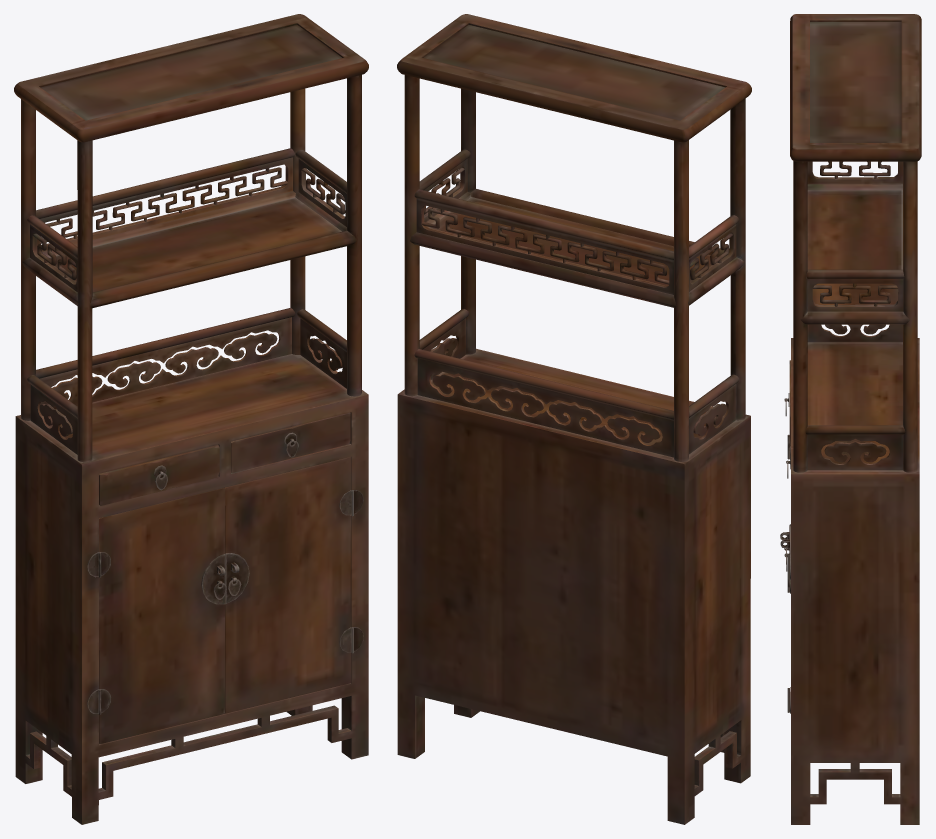
File: chinese_cabinet.abebc530.glb
3 views of the same model, side by side, from view 1: azimuth 30°, elevation 25°; view 2: azimuth 150°, elevation 25°; view 3: azimuth 270°, elevation 25° (orthographic). The views are drawn at different scales.
Parts seen in each view (by area): view 1: Cube.013, chinese_cabinet; view 2: Cube.013; view 3: Cube.013, chinese_cabinet.
Boxes of the visible parts, x1,y1,x2,y2 form: Cube.013: (14, 14, 368, 824); chinese_cabinet: (98, 412, 353, 743); Cube.013: (397, 14, 751, 824); Cube.013: (790, 14, 921, 824); chinese_cabinet: (780, 360, 790, 712).
Bounding box in the file's own units: 0.4396 × 1 × 0.1898.
Materials: 1 (1 with a texture image).
